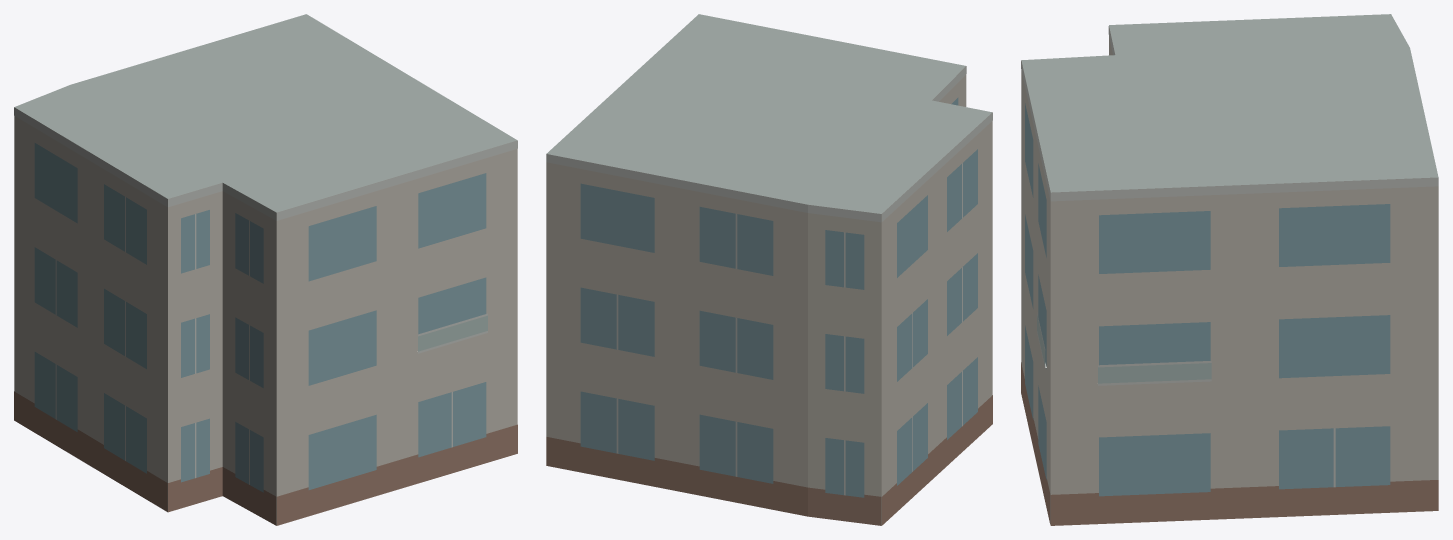
Rendered from survey-upis-32625748.glb.
3 renders of one model, left to right at view 1: azimuth 30°, elevation 25°; view 2: azimuth 150°, elevation 25°; view 3: azimuth 270°, elevation 25°, orthographic. The views are drawn at different scales.
Parts seen in each view (by area): view 1: survey-upis-32625748.tmp; view 2: survey-upis-32625748.tmp; view 3: survey-upis-32625748.tmp.
Boxes of the visible parts, x1,y1,x2,y2 form: survey-upis-32625748.tmp: (14, 14, 517, 525); survey-upis-32625748.tmp: (546, 14, 992, 525); survey-upis-32625748.tmp: (1021, 14, 1438, 525).
Bounding box in the file's own units: 10.52 × 9.15 × 10.39.
